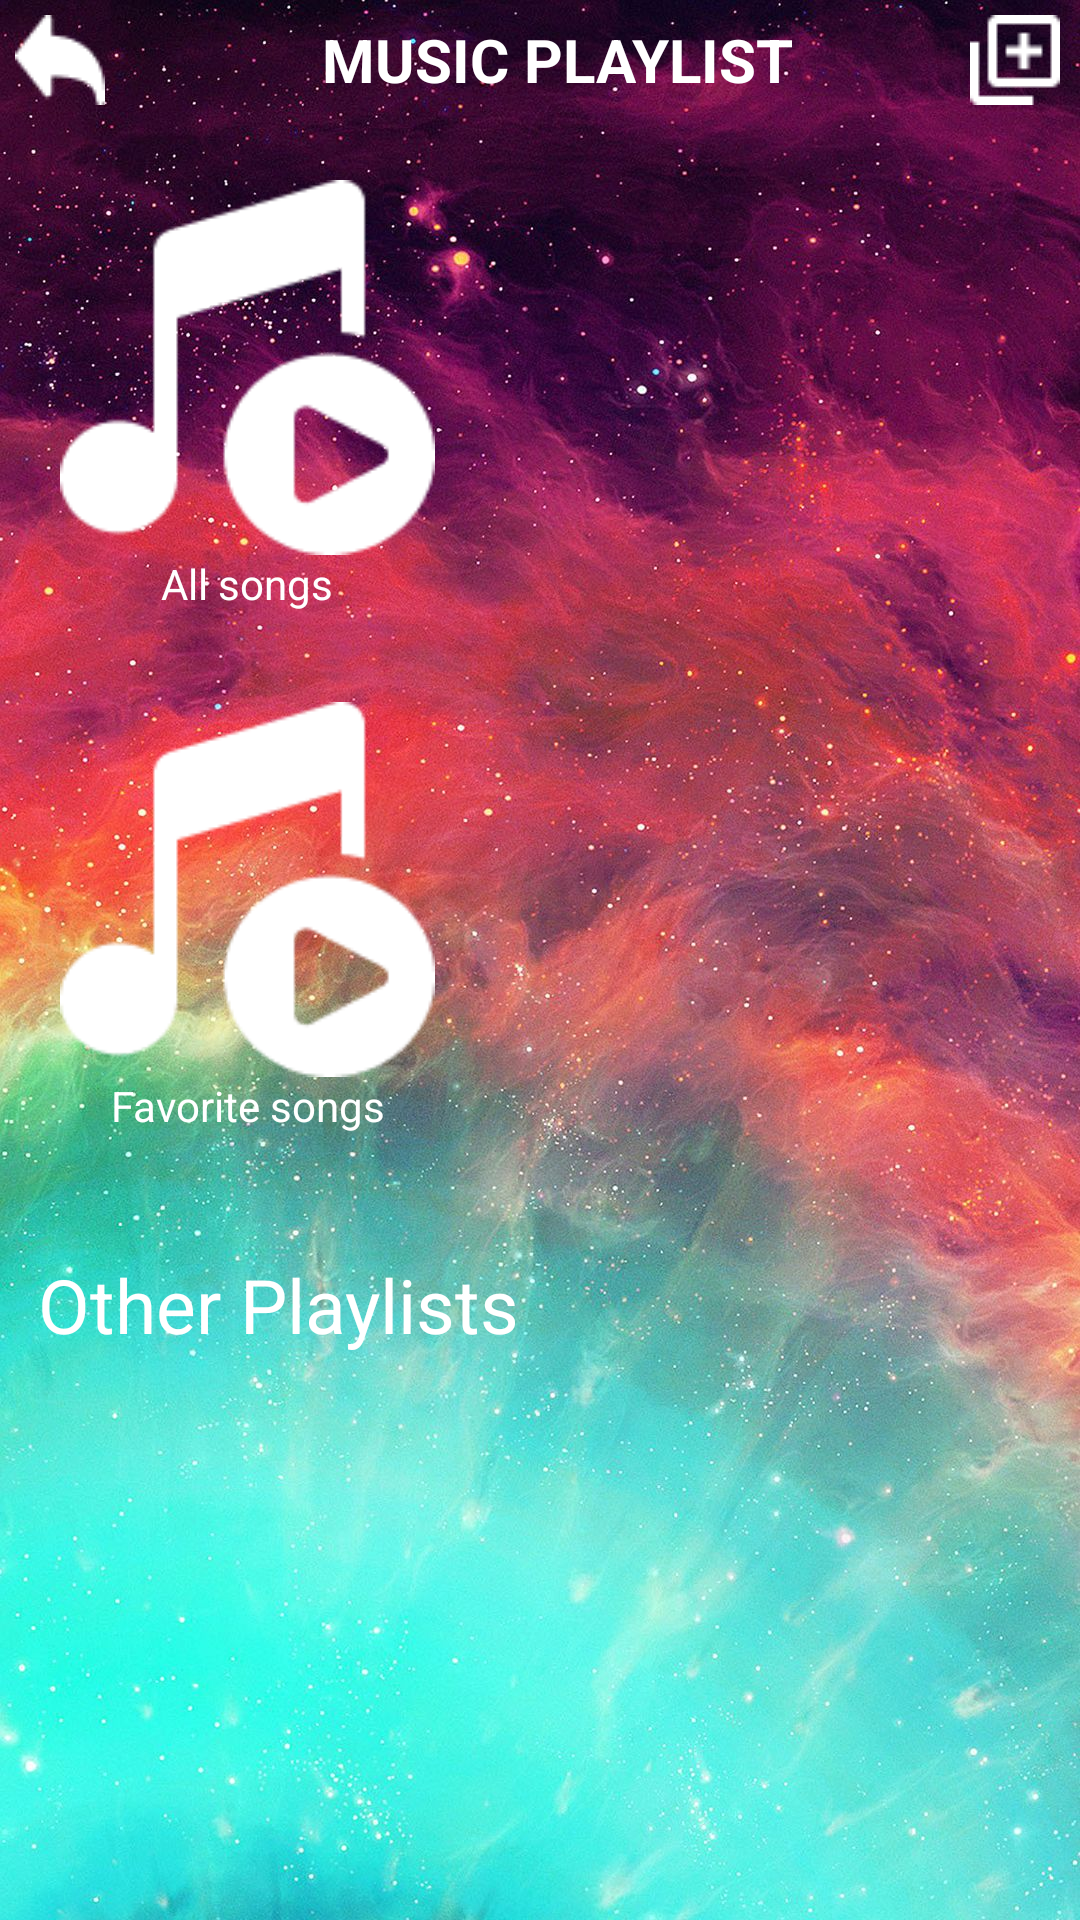

Where to tap for icons on this 1080px×1920px app screen, as (x,y):
add list: (1014,60)
back: (60,60)
